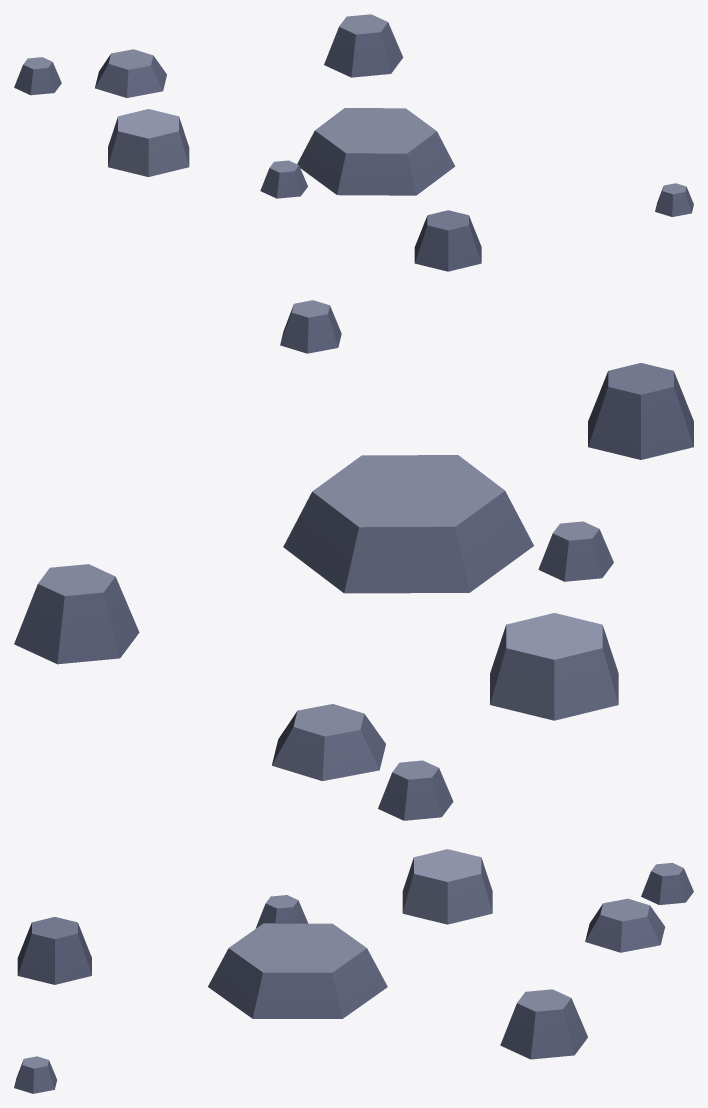
File: volcanic-detail.obj
The picture shows the model from 3 angles, top to bottom: view 1: azimuth 30°, elevation 25°; view 2: azimuth 150°, elevation 25°; view 3: azimuth 270°, elevation 25°; orthographic projection. The views are drawn at different scales.
Visible parts, largest first — view 1: volcanic-detail; view 2: volcanic-detail; view 3: volcanic-detail.
Boxes of the visible parts, x1,y1,x2,y2 form: volcanic-detail: (14,14,693,271); volcanic-detail: (14,300,693,820); volcanic-detail: (14,849,693,1093).
Size of the model in its own units: 21.43 by 1.94 by 28.54.
Materials: 1 (1 with a texture image).
